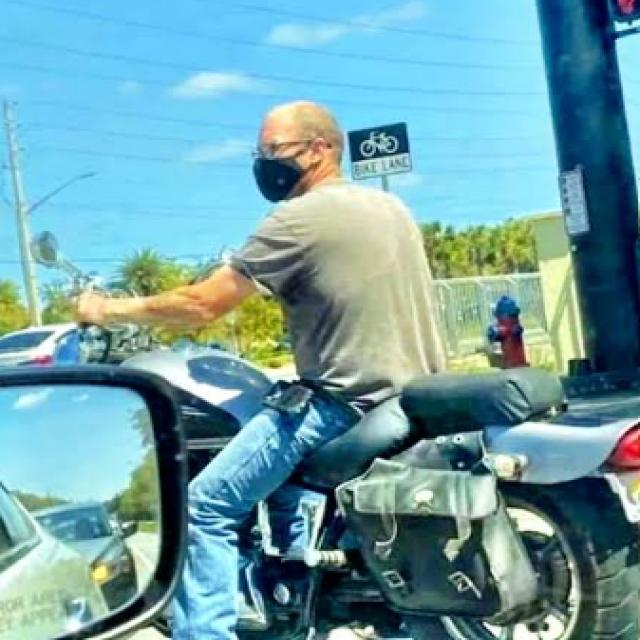WithoutHelmet: (74, 96, 448, 640)
